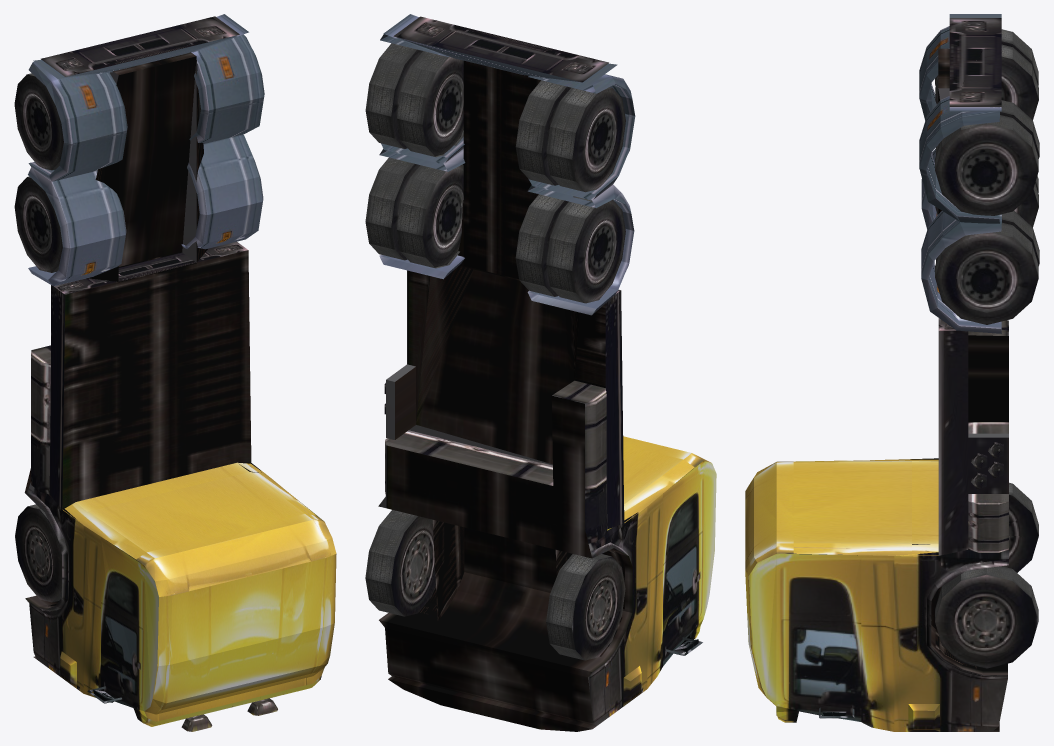
File: carpack_scania_wtf.obj
The picture shows the model from 3 angles, left to right: view 1: azimuth 30°, elevation 25°; view 2: azimuth 150°, elevation 25°; view 3: azimuth 270°, elevation 25°; orthographic projection. The views are drawn at different scales.
Parts seen in each view (by area): view 1: group2; view 2: group2; view 3: group2.
Part boxes in pixels (<box>): group2: <box>14,14,336,731</box>; group2: <box>365,14,716,731</box>; group2: <box>745,14,1039,731</box>.
Size of the model in its own units: 249 by 660 by 278.
